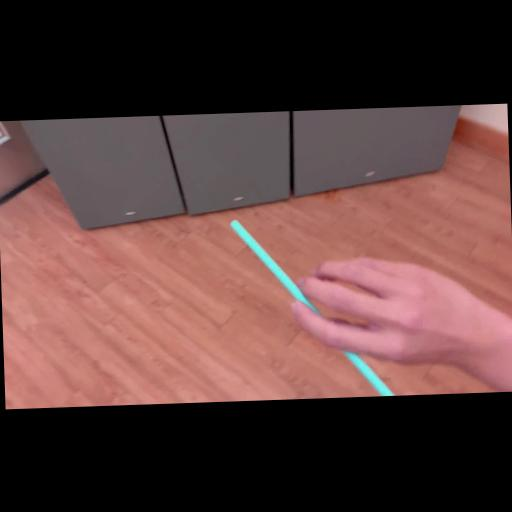straw: (230, 214, 394, 400)
